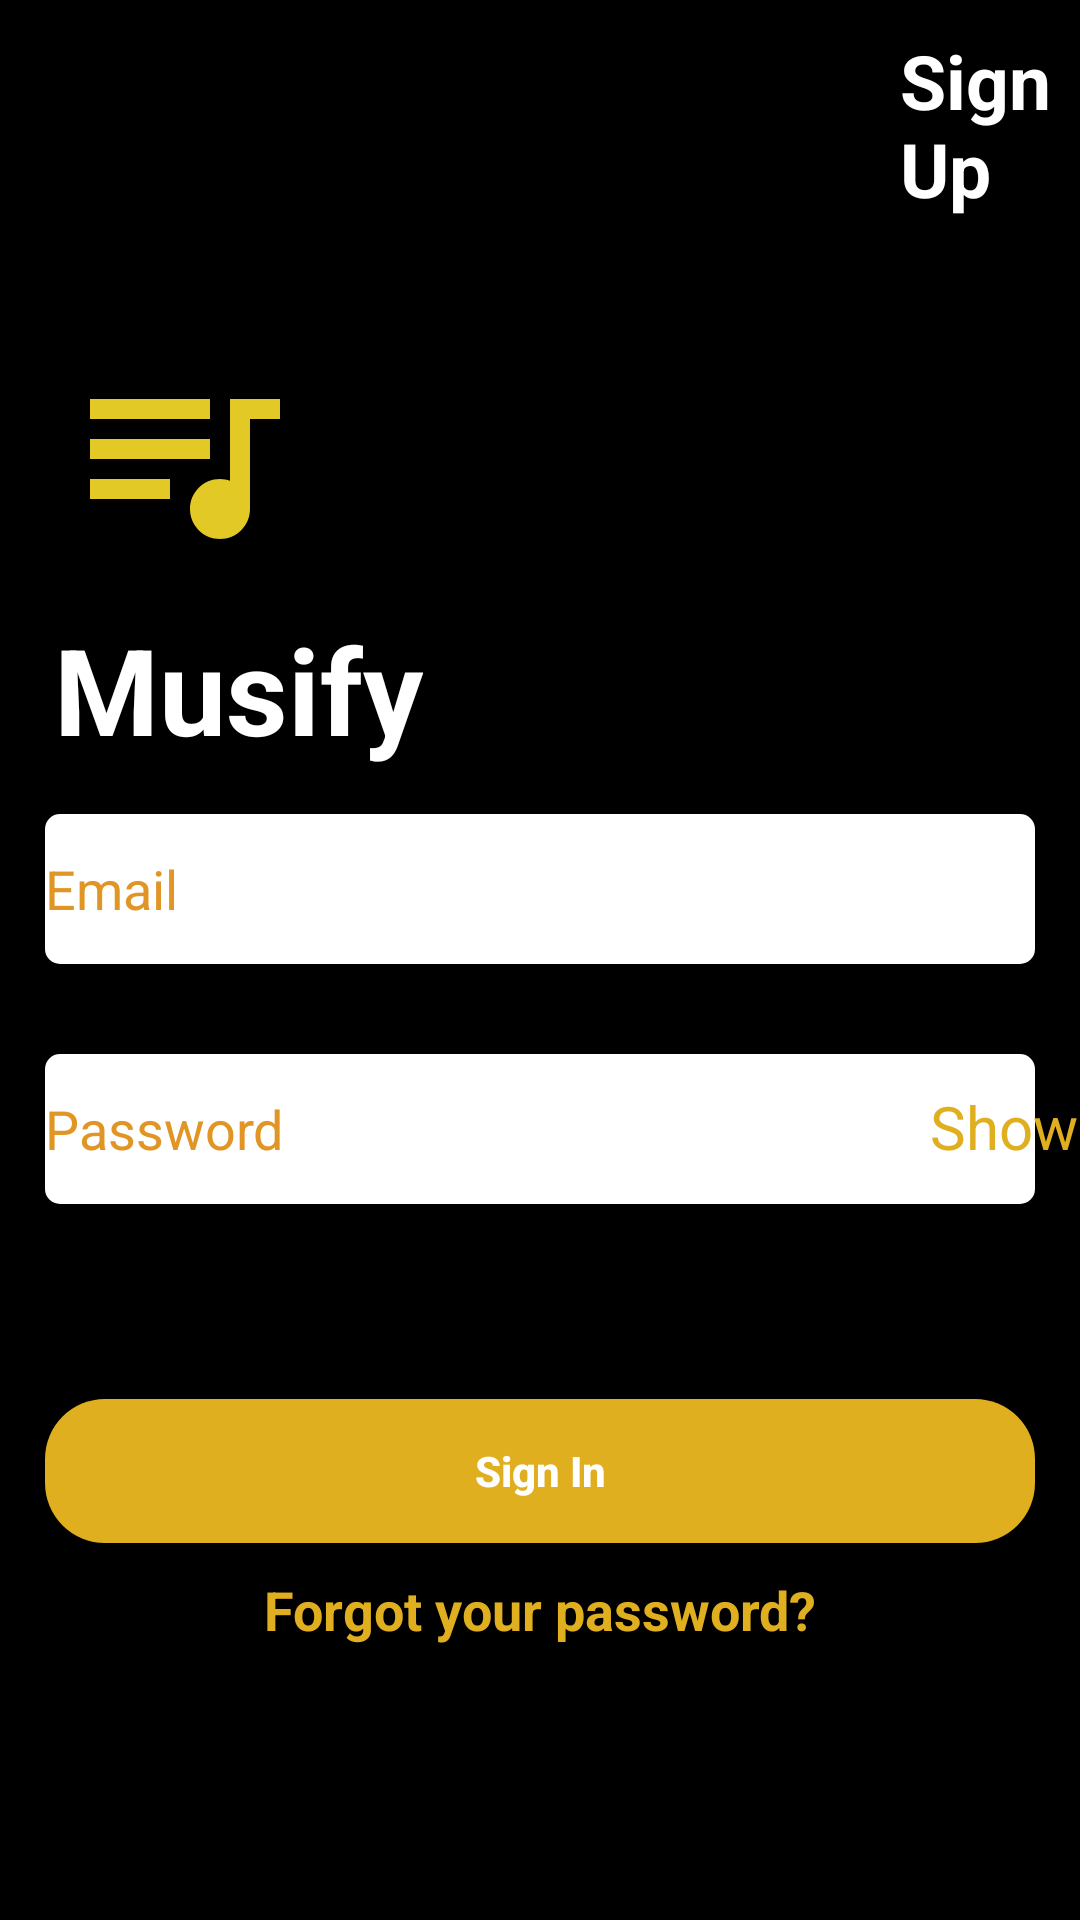

Point at icon controls on the screen. Image size 1080 × 1920, points as [x,y].
queue music: [185,469]
